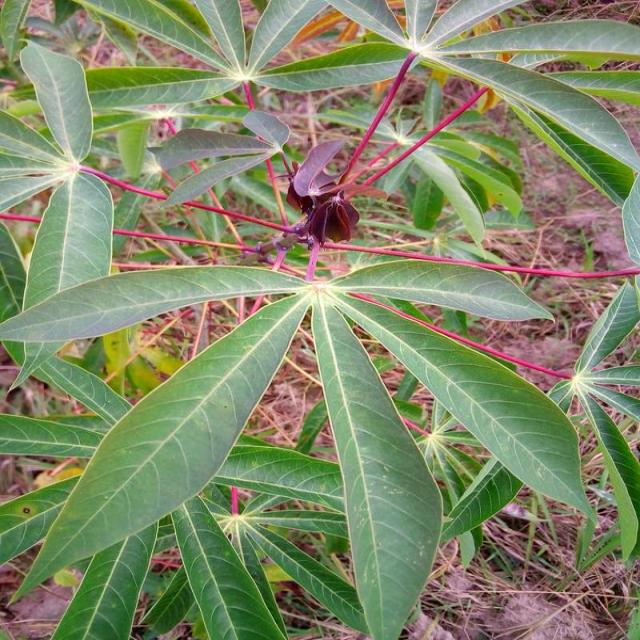cassava leaf: (2, 2, 638, 637), (8, 286, 313, 607), (311, 289, 445, 638)
